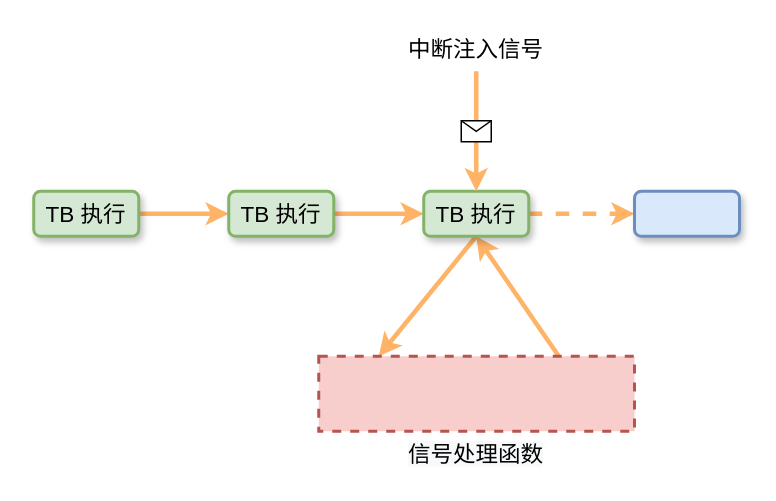
Some shapes in this 776 by 501 pixel diagram are drawn without their labels. The centre of each missing label's shape, as x and y in pixels:
"TB 退出" belongs at point (687, 215).
"unlink 正在执行的 TB" belongs at point (475, 393).
